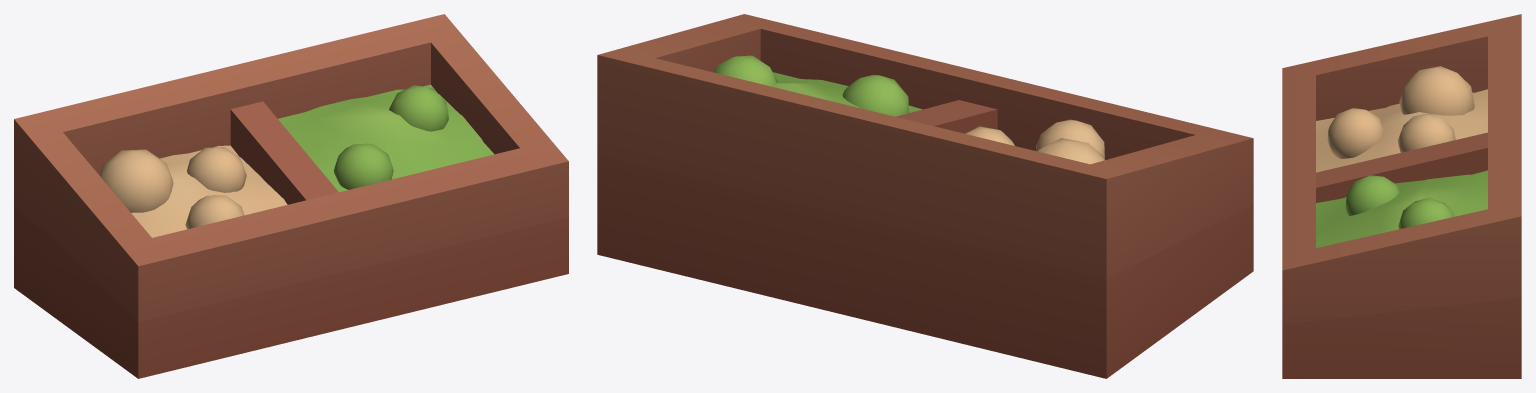
Rendered from crate_long_B.glb.
3 renders of one model, left to right at view 1: azimuth 30°, elevation 25°; view 2: azimuth 150°, elevation 25°; view 3: azimuth 270°, elevation 25°, orthographic. The views are drawn at different scales.
Parts seen in each view (by area): view 1: crate_long_B; view 2: crate_long_B; view 3: crate_long_B.
Boxes of the visible parts, x1,y1,x2,y2 form: crate_long_B: (14,14,568,378); crate_long_B: (597,14,1253,378); crate_long_B: (1282,14,1521,378).
Size of the model in its own units: 0.4 by 0.15 by 0.2.
Materials: 1 (1 with a texture image).
